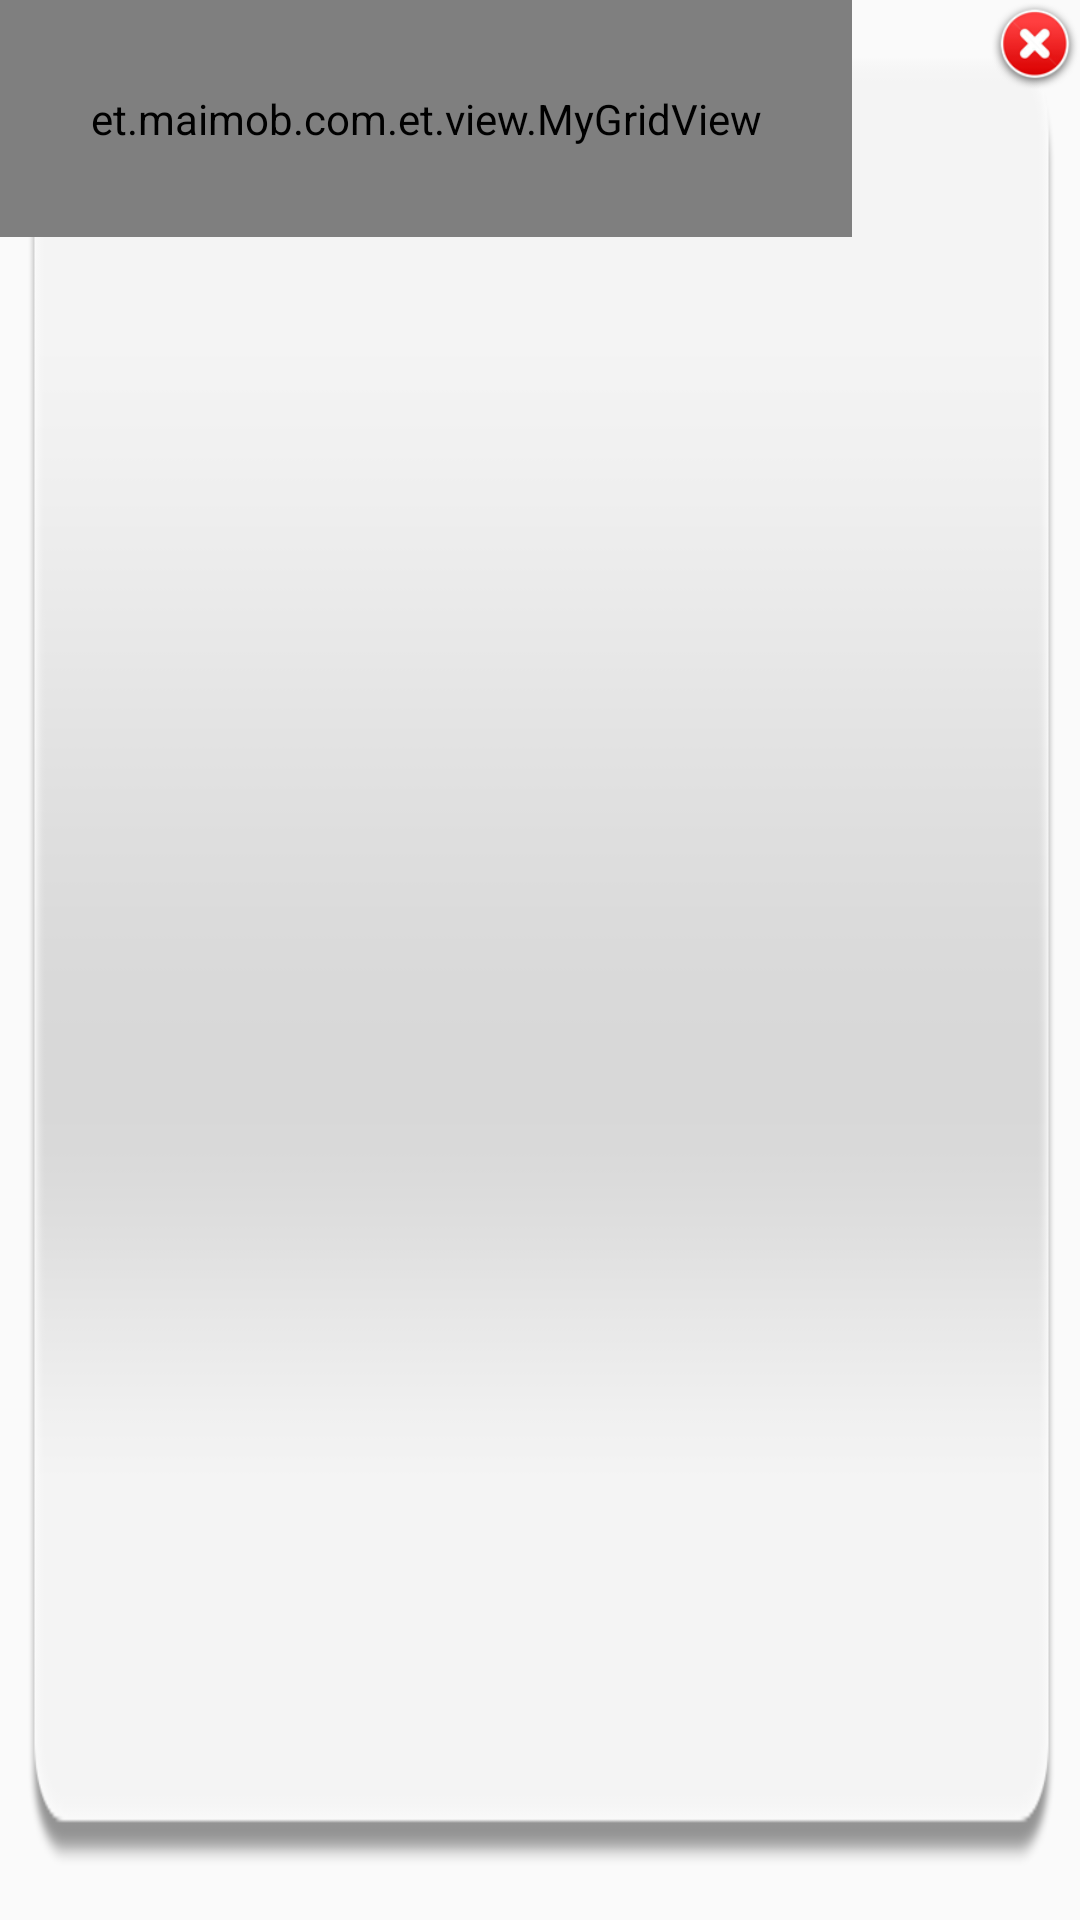

Named icons in this screenshot (1080px x 1920px) and their centers, [x,y]:
close select: [1035,46]
